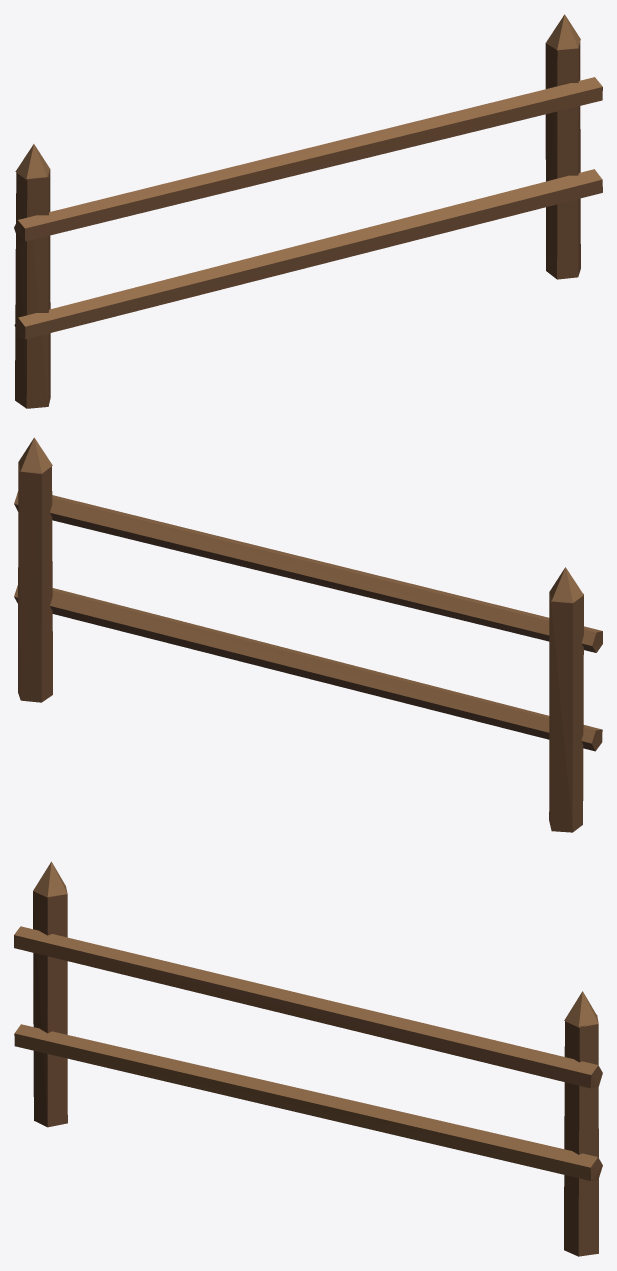
The model's file is SM_Fence.fbx.
3 renders of one model, top to bottom at view 1: azimuth 30°, elevation 25°; view 2: azimuth 150°, elevation 25°; view 3: azimuth 330°, elevation 25°, orthographic.
Visible parts, largest first — view 1: SM_Fence; view 2: SM_Fence; view 3: SM_Fence.
Part boxes in pixels (x1,y1,x2,y2): SM_Fence: [14, 14, 602, 408]; SM_Fence: [14, 437, 602, 832]; SM_Fence: [14, 861, 602, 1256].
Bounding box in the file's own units: 2.5 × 1.07 × 0.1792.
